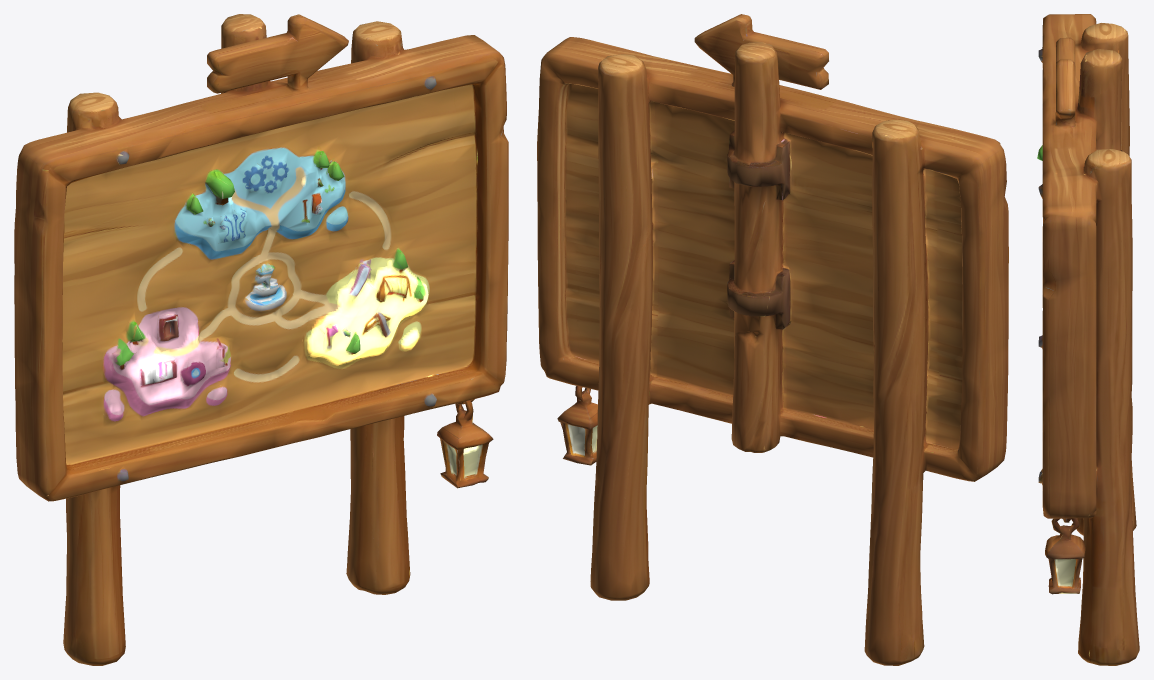
Rendered from hub_map_sign.glb.
3 renders of one model, left to right at view 1: azimuth 30°, elevation 25°; view 2: azimuth 150°, elevation 25°; view 3: azimuth 270°, elevation 25°, orthographic. The views are drawn at different scales.
Visible parts, largest first — view 1: Mesh_0; view 2: Mesh_0; view 3: Mesh_0.
Part boxes in pixels (bbox=[...]): Mesh_0: bbox=[14, 14, 508, 665]; Mesh_0: bbox=[537, 14, 1008, 665]; Mesh_0: bbox=[1037, 14, 1139, 665].
Bounding box in the file's own units: 1.55 × 1.91 × 0.3227.
Materials: 1 (1 with a texture image).
